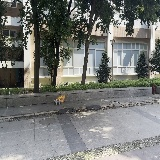fire: (57, 94, 65, 104)
